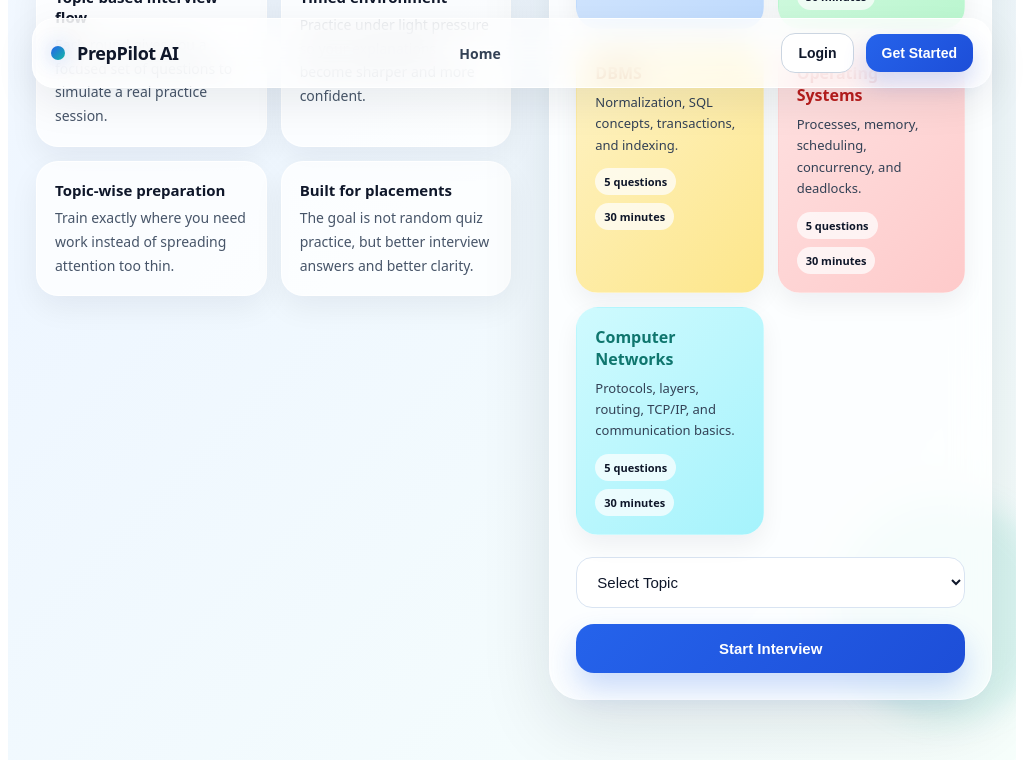
Test: InterviewPage › requires selecting a topic before starting
(page scrolled)
What coordinates should you click on to do the following:
click the button "Start Interview"
I would click on:
 (771, 648)
Its box is [576, 624, 965, 673].
(page scrolled)
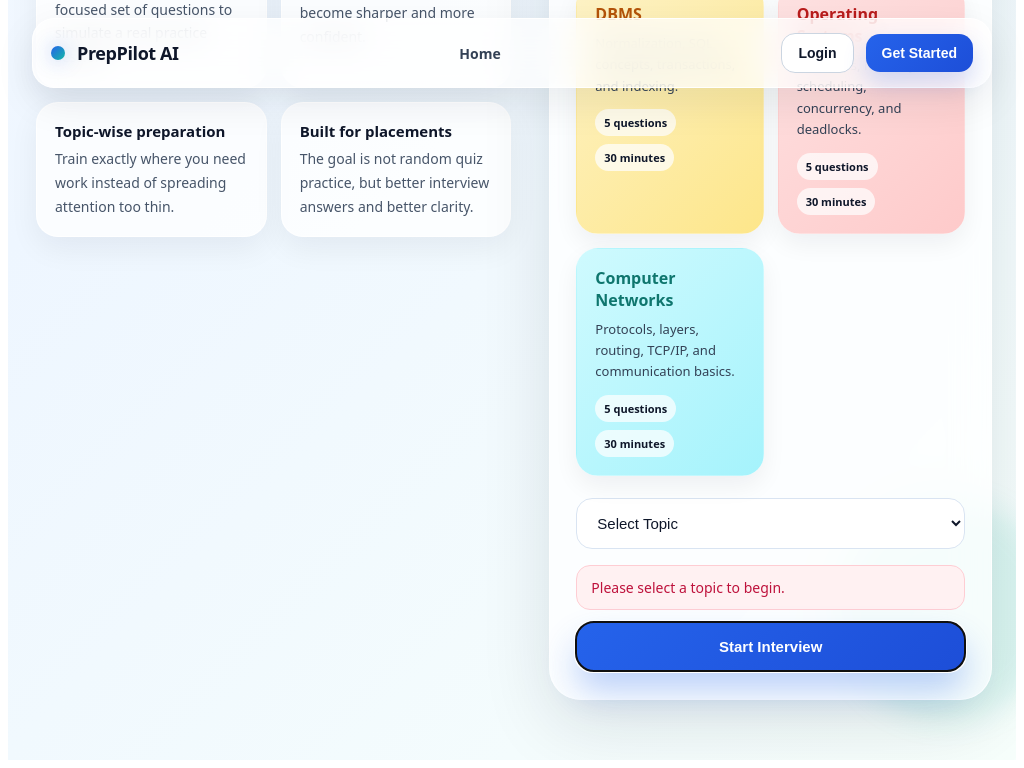
expect the text "Please select a topic to begin." is shown: met, box [576, 565, 965, 610]
